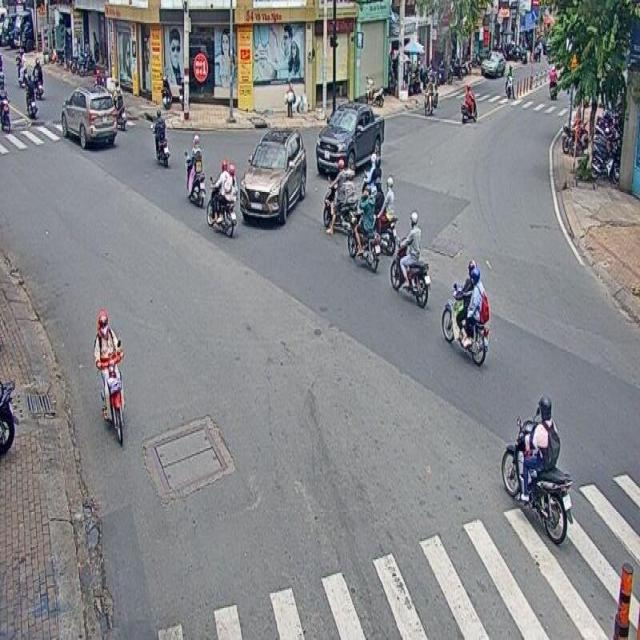car: (239, 122, 307, 228), (314, 96, 385, 178), (60, 84, 117, 149)
motorcycle: (501, 387, 574, 544), (440, 254, 490, 366), (94, 310, 125, 450), (390, 210, 432, 311), (320, 157, 358, 239), (346, 184, 380, 273), (205, 158, 238, 240), (182, 131, 206, 207), (150, 108, 170, 169)
